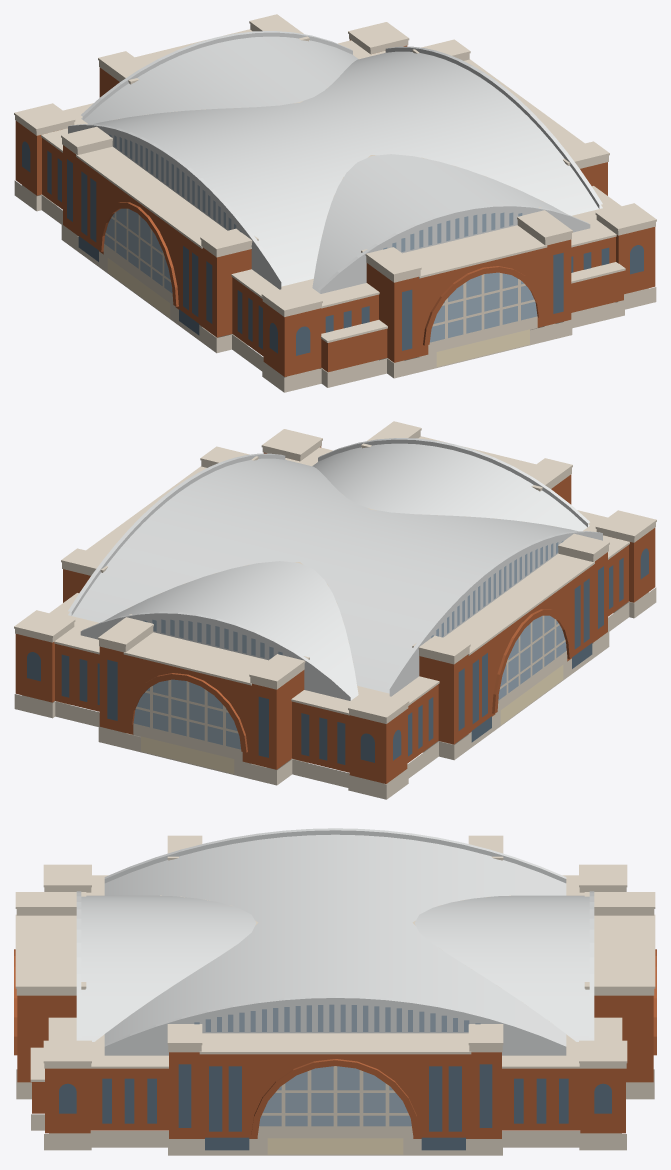
The model's file is dal-american-airlines-center.glb.
3 renders of one model, top to bottom at view 1: azimuth 30°, elevation 25°; view 2: azimuth 150°, elevation 25°; view 3: azimuth 270°, elevation 25°, orthographic. The views are drawn at different scales.
Parts seen in each view (by area): view 1: American Airlines Center; view 2: American Airlines Center; view 3: American Airlines Center.
Boxes of the visible parts, box(x1,y1,x2,y2) form: American Airlines Center: box(14, 14, 656, 392); American Airlines Center: box(14, 421, 656, 799); American Airlines Center: box(14, 828, 656, 1155).
Bounding box in the file's own units: 123 × 38.2 × 160.
